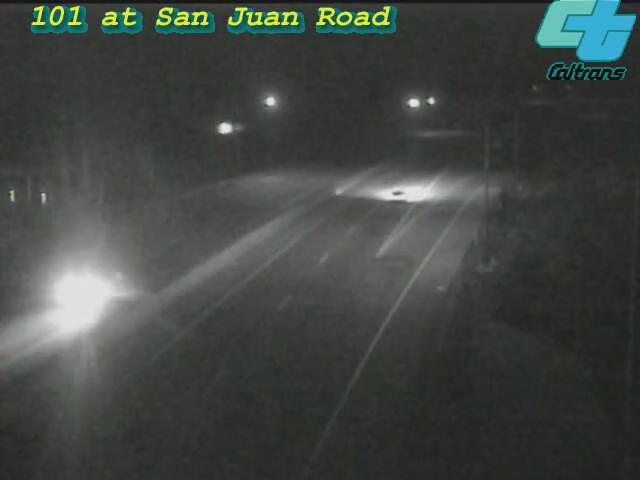vehicle: (353, 158, 433, 238), (34, 252, 114, 332)
